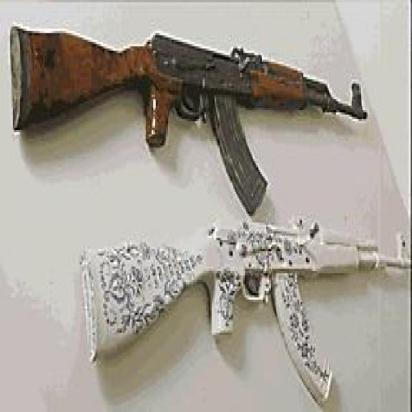Gun: (7, 24, 376, 212)
